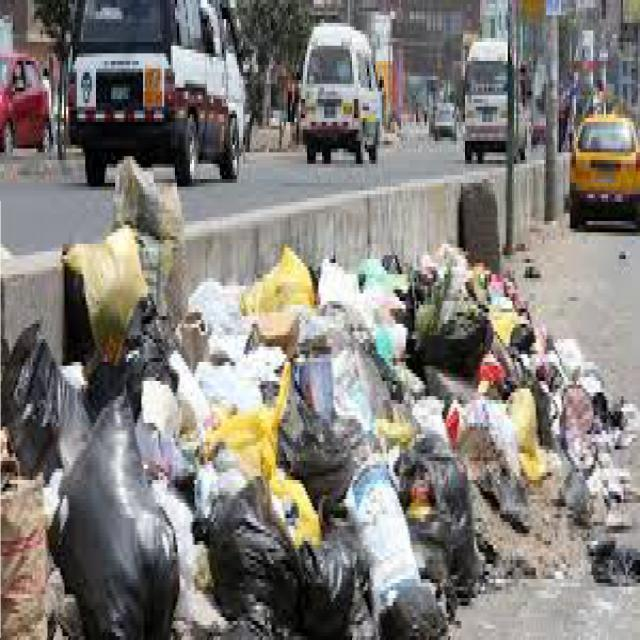Trashbag: (54, 394, 184, 640), (209, 517, 362, 640), (395, 435, 494, 589), (0, 314, 84, 476), (272, 392, 383, 508), (406, 286, 493, 396), (116, 299, 182, 398), (377, 575, 444, 640)
